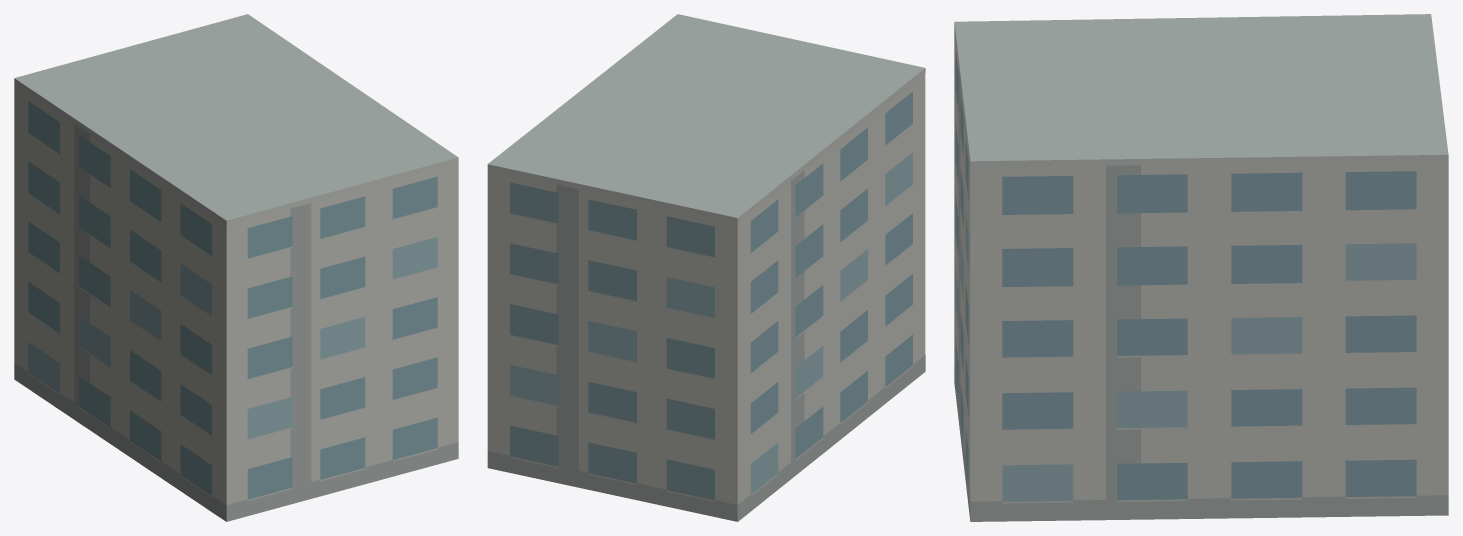
Rendered from survey-upis-32942921.glb.
3 views of the same model, side by side, from view 1: azimuth 30°, elevation 25°; view 2: azimuth 150°, elevation 25°; view 3: azimuth 270°, elevation 25° (orthographic). The views are drawn at different scales.
Visible parts, largest first — view 1: survey-upis-32942921.tmp; view 2: survey-upis-32942921.tmp; view 3: survey-upis-32942921.tmp.
Boxes of the visible parts, left/top/right/bottom form: survey-upis-32942921.tmp: left=14, top=14, right=458, bottom=521; survey-upis-32942921.tmp: left=487, top=14, right=925, bottom=521; survey-upis-32942921.tmp: left=954, top=14, right=1448, bottom=521.
Size of the model in its own units: 11.91 by 13.6 by 16.9.
